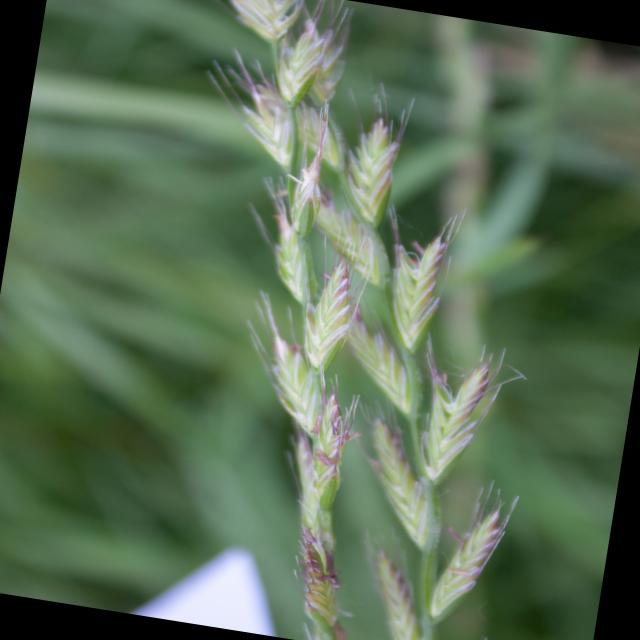Lolium: (101, 0, 611, 640)
